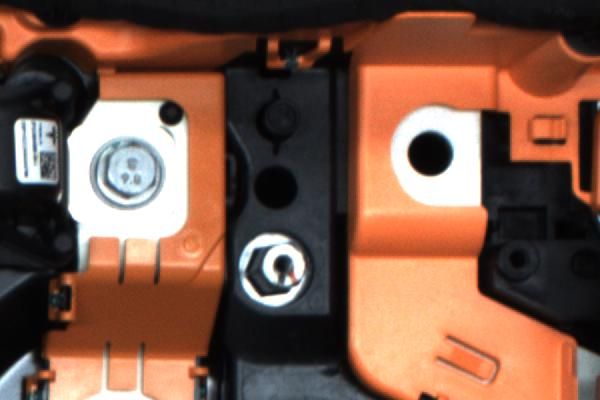nut_b: (84, 139, 179, 204)
